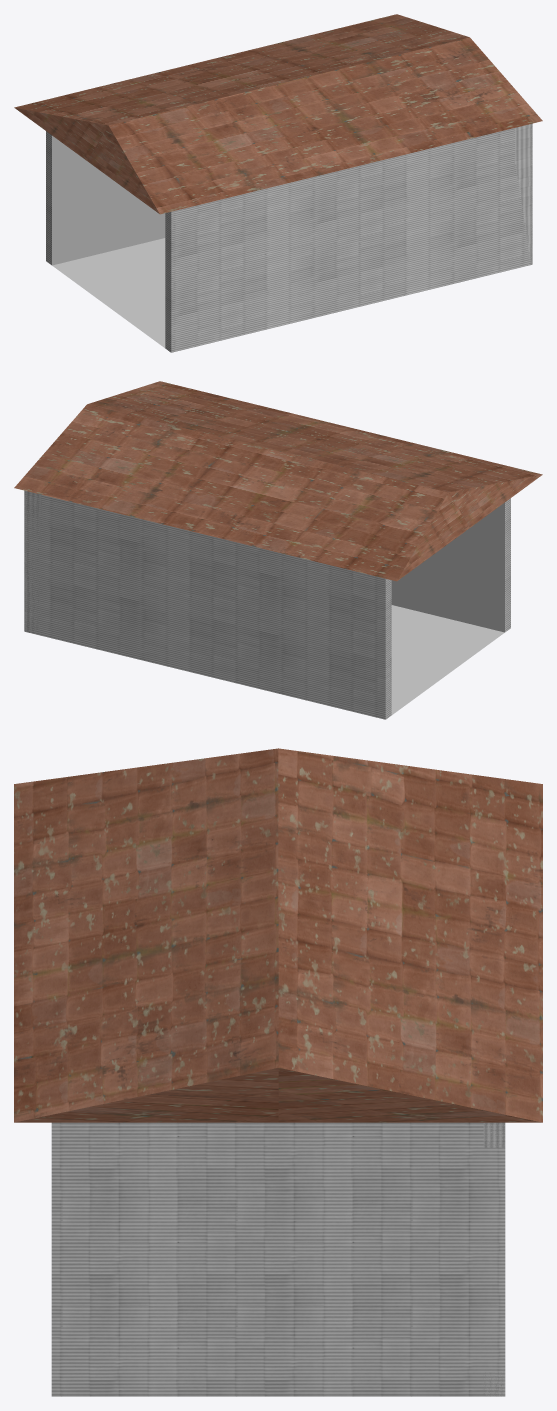
The model's file is garage.fbx.
The picture shows the model from 3 angles, top to bottom: view 1: azimuth 30°, elevation 25°; view 2: azimuth 150°, elevation 25°; view 3: azimuth 270°, elevation 25°; orthographic projection. The views are drawn at different scales.
Visible parts, largest first — view 1: Cube, Cube.001; view 2: Cube, Cube.001; view 3: Cube.001, Cube.
Boxes of the visible parts, x1,y1,x2,y2 form: Cube: [46, 123, 532, 352]; Cube.001: [14, 14, 542, 214]; Cube: [24, 490, 510, 719]; Cube.001: [14, 381, 542, 581]; Cube.001: [14, 748, 542, 1122]; Cube: [51, 1122, 505, 1396].
Size of the model in its own units: 2649 by 1200 by 1750.
